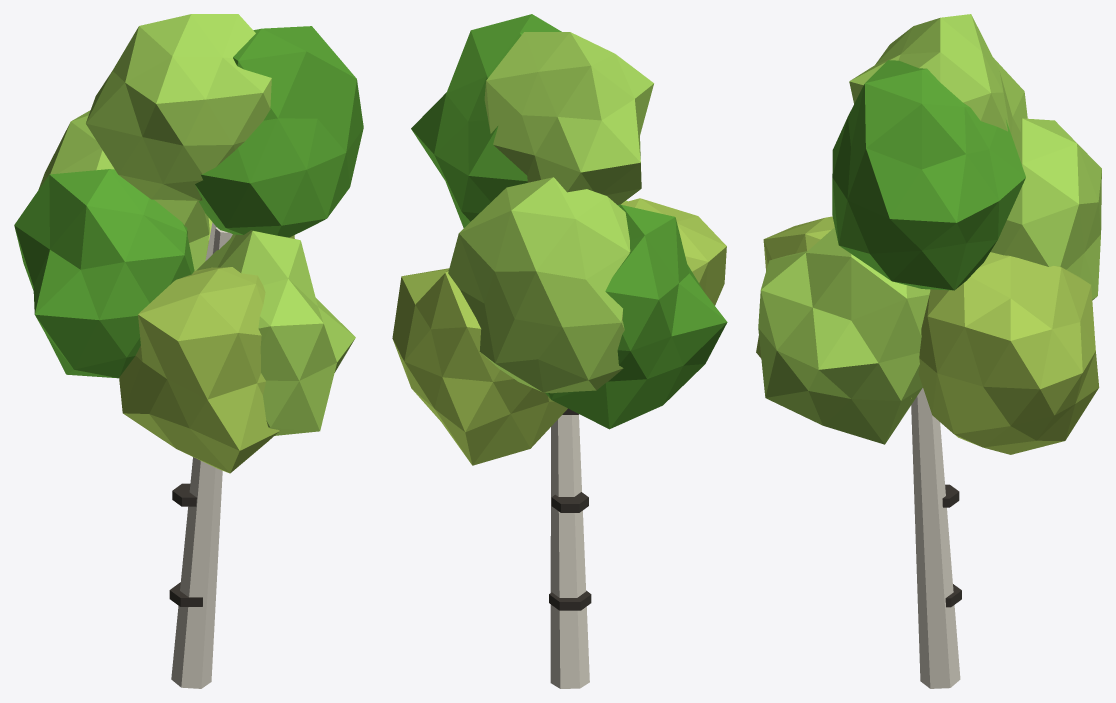
The model's file is tree_birch_2.glb.
The picture shows the model from 3 angles, left to right: view 1: azimuth 30°, elevation 25°; view 2: azimuth 150°, elevation 25°; view 3: azimuth 270°, elevation 25°; orthographic projection. The views are drawn at different scales.
Parts seen in each view (by area): view 1: tree_birch_2; view 2: tree_birch_2; view 3: tree_birch_2.
Part boxes in pixels (x1=…): tree_birch_2: x1=14, y1=14, x2=363, y2=688; tree_birch_2: x1=392, y1=14, x2=727, y2=688; tree_birch_2: x1=756, y1=14, x2=1101, y2=688.
Size of what is drawn, in the model's own units: 3.62 by 7.37 by 3.48.
